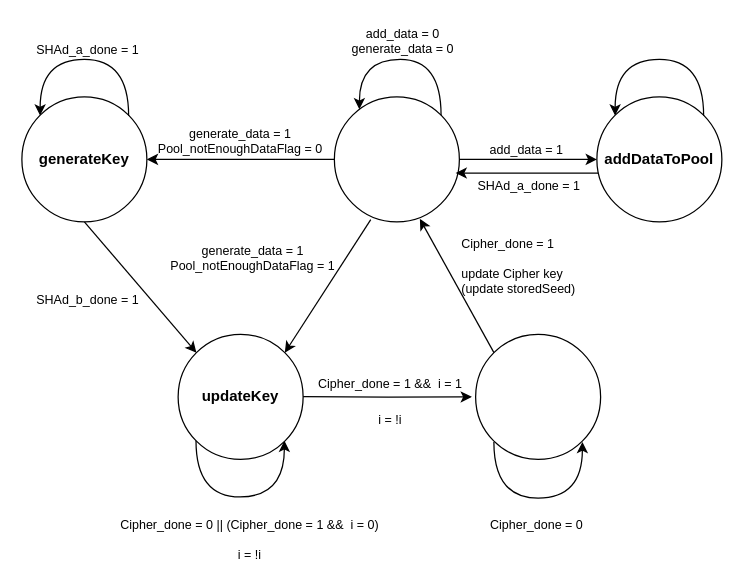
Some shapes in this 744 by 584 pixel diagram are drawn without their labels. The shapes that lost their labels are listed below. From the top down, each one's box as (x1, y1, x2, y2) in pixels, then its label:
(333, 96, 459, 222): idle
(474, 333, 601, 459): generateData
